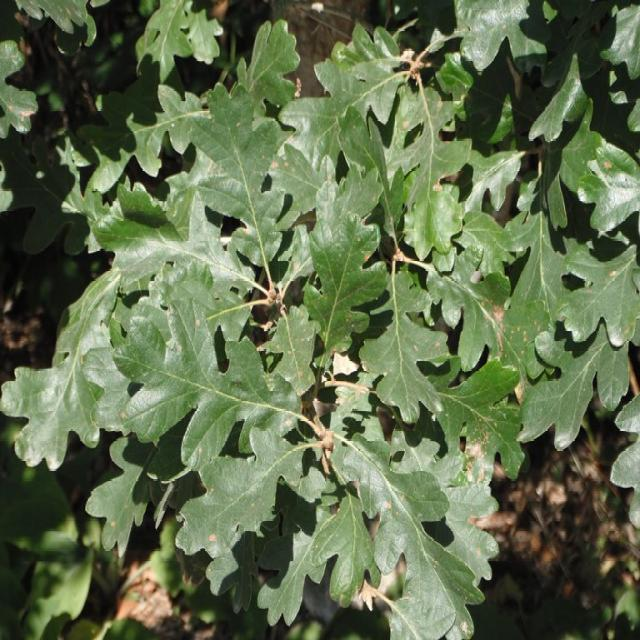Quercus garryana: (112, 300, 325, 471)
